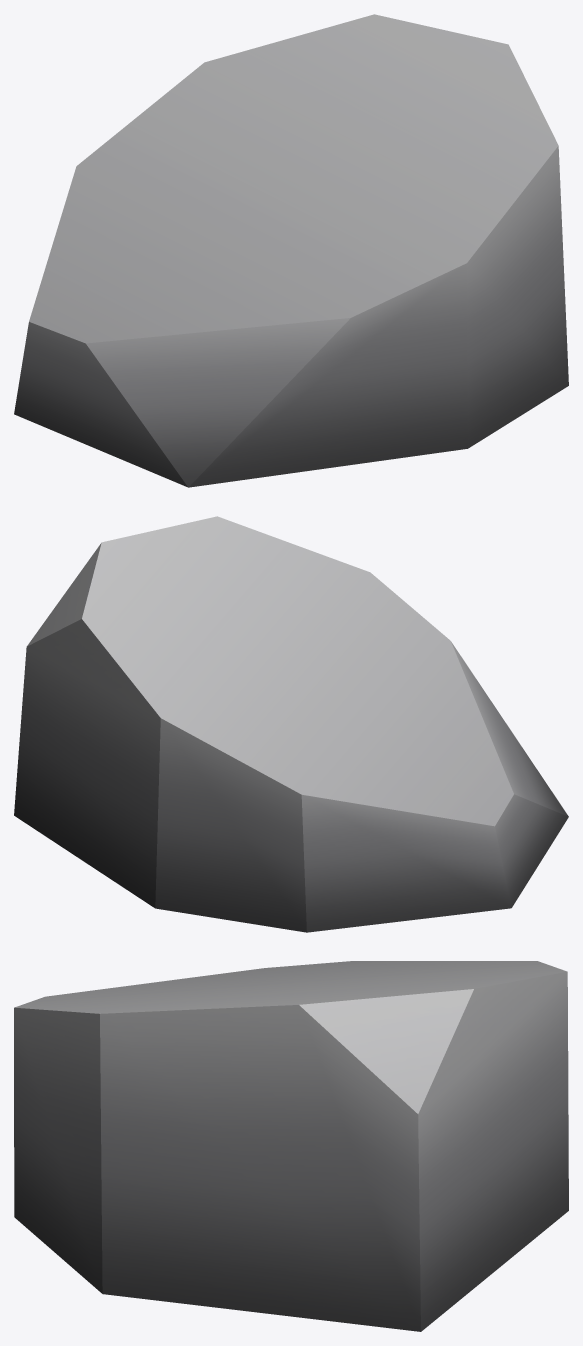
The model's file is RockSml-04.FBX.
3 renders of one model, top to bottom at view 1: azimuth 30°, elevation 25°; view 2: azimuth 150°, elevation 25°; view 3: azimuth 270°, elevation 25°, orthographic. The views are drawn at different scales.
Parts seen in each view (by area): view 1: RockSml-04; view 2: RockSml-04; view 3: RockSml-04.
Boxes of the visible parts, box(x1,y1,x2,y2) form: RockSml-04: box(14, 14, 568, 487); RockSml-04: box(14, 516, 568, 932); RockSml-04: box(14, 961, 568, 1331).
Size of the model in its own units: 35.17 by 17.68 by 29.24.
Materials: 1 (1 with a texture image).
